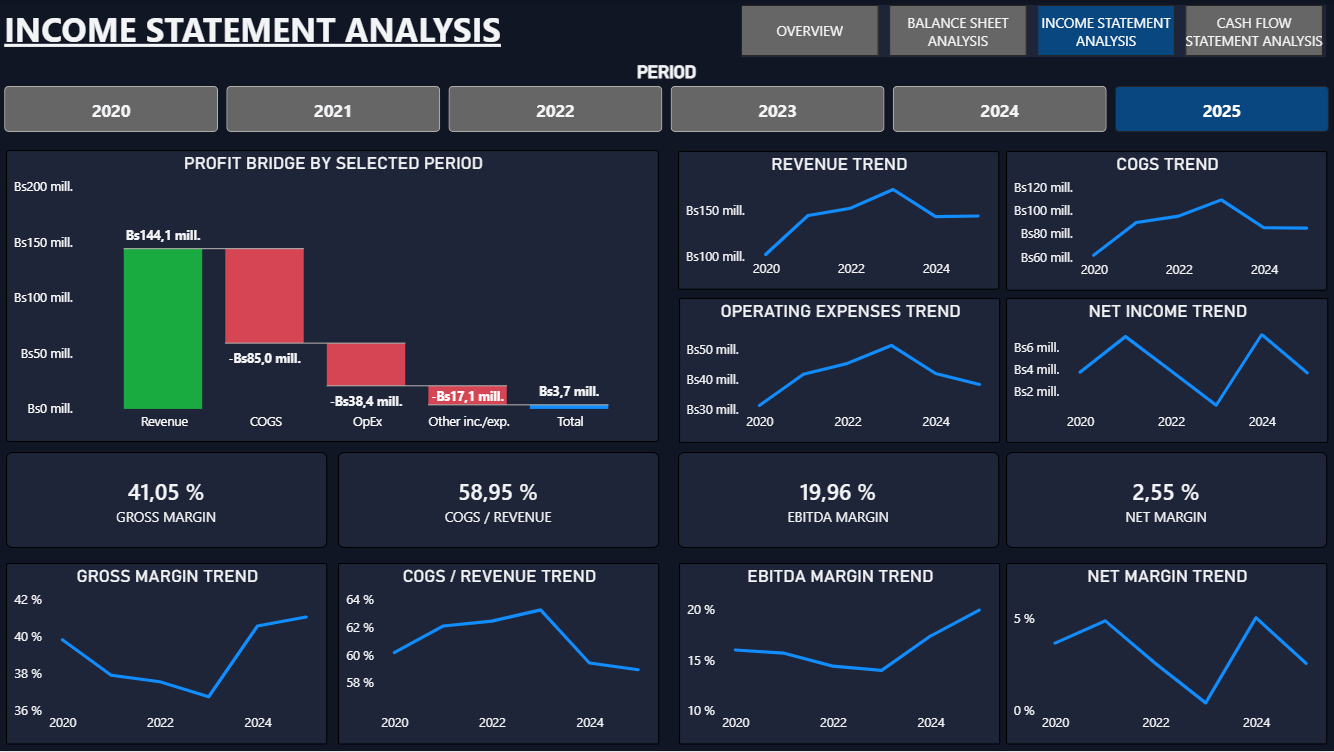

The dashboard page shown, as its layout file describes it:
{"tool":"powerbi","page":{"name":"INCOME STATEMENT ANALYSIS","canvas":[1280,720],"ordinal":2},"visuals":[{"type":"textbox","box":[0,0,486.6,58.8],"z":0},{"type":"advancedSlicerVisual","title":"PERIOD","fields":{"Values":["DimFecha.Año"]},"box":[0,58.5,1280,73.5],"z":1000},{"type":"waterfallChart","title":"PROFIT BRIDGE BY SELECTED PERIOD","fields":{"Category":["Waterfall_IS.Step"],"Y":["Waterfall_IS.Waterfall Value"]},"box":[6.6,144.2,626.1,280.3],"z":2000},{"type":"lineChart","title":"REVENUE TREND","fields":{"Category":["DimFecha.Año"],"Y":["DimCategoria.Revenue trend"]},"box":[651,144.8,307.8,133.3],"z":3000},{"type":"lineChart","title":"COGS TREND","fields":{"Category":["DimFecha.Año"],"Y":["DimCategoria.COGS Trend"]},"box":[965.5,144.5,308.2,133.6],"z":4000},{"type":"lineChart","title":"OPERATING EXPENSES TREND","fields":{"Category":["DimFecha.Año"],"Y":["DimCategoria.Operating Exp. Trend"]},"box":[651.7,285.5,308.2,139.1],"z":5000},{"type":"lineChart","title":"NET INCOME TREND","fields":{"Category":["DimFecha.Año"],"Y":["DimCategoria.Resultado neto Trend"]},"box":[965.5,285.7,308.7,139],"z":6000},{"type":"cardVisual","fields":{"Data":["MEDIDAS.Margen Bruto"]},"box":[6.7,433.4,307.8,92],"z":7000},{"type":"cardVisual","fields":{"Data":["MEDIDAS.Margen EBITDA"]},"box":[651,433.4,307.8,92],"z":8000},{"type":"cardVisual","fields":{"Data":["MEDIDAS.Margen Neto"]},"box":[965.5,433.4,307.8,92],"z":9000},{"type":"cardVisual","fields":{"Data":["DimCategoria.COGS / REVENUE"]},"box":[325,433.4,307.8,92],"z":10000},{"type":"lineChart","title":"GROSS MARGIN TREND","fields":{"Category":["DimFecha.Año"],"Y":["MEDIDAS.Margen Bruto"]},"box":[6.7,539.8,307.8,173.5],"z":11000},{"type":"lineChart","title":"COGS / REVENUE TREND","fields":{"Category":["DimFecha.Año"],"Y":["DimCategoria.COGS / REVENUE"]},"box":[325,539.8,307.8,173.5],"z":12000},{"type":"lineChart","title":"EBITDA MARGIN TREND","fields":{"Category":["DimFecha.Año"],"Y":["MEDIDAS.Margen EBITDA"]},"box":[652,539.8,307.8,173.5],"z":13000},{"type":"lineChart","title":"NET MARGIN TREND","fields":{"Category":["DimFecha.Año"],"Y":["MEDIDAS.Margen Neto"]},"box":[965.5,539.8,307.8,173.5],"z":14000},{"type":"pageNavigator","box":[711.4,4.8,560.9,49.9],"z":15000}]}

Visuals, with their boxes in screenshot pixels (x1, y1, x2, y2), scaled from the page's 1280x720 canvas onto the 1334x752 screenshot:
textbox: x1=0, y1=0, x2=507, y2=61
"PERIOD" advancedSlicerVisual: x1=0, y1=61, x2=1333, y2=138
"PROFIT BRIDGE BY SELECTED PERIOD" waterfallChart: x1=7, y1=151, x2=659, y2=443
"REVENUE TREND" lineChart: x1=678, y1=151, x2=999, y2=290
"COGS TREND" lineChart: x1=1006, y1=151, x2=1327, y2=290
"OPERATING EXPENSES TREND" lineChart: x1=679, y1=298, x2=1000, y2=443
"NET INCOME TREND" lineChart: x1=1006, y1=298, x2=1328, y2=444
cardVisual - MEDIDAS.Margen Bruto: x1=7, y1=453, x2=328, y2=549
cardVisual - MEDIDAS.Margen EBITDA: x1=678, y1=453, x2=999, y2=549
cardVisual - MEDIDAS.Margen Neto: x1=1006, y1=453, x2=1327, y2=549
cardVisual - DimCategoria.COGS / REVENUE: x1=339, y1=453, x2=659, y2=549
"GROSS MARGIN TREND" lineChart: x1=7, y1=564, x2=328, y2=745
"COGS / REVENUE TREND" lineChart: x1=339, y1=564, x2=659, y2=745
"EBITDA MARGIN TREND" lineChart: x1=680, y1=564, x2=1000, y2=745
"NET MARGIN TREND" lineChart: x1=1006, y1=564, x2=1327, y2=745
pageNavigator: x1=741, y1=5, x2=1326, y2=57
